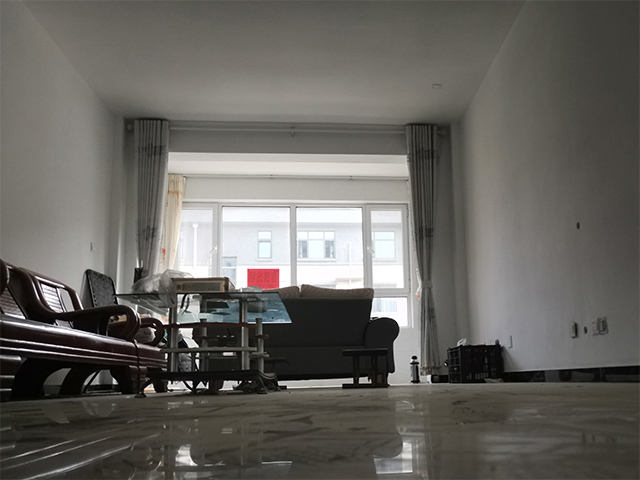curtain: (403, 123, 444, 378), (130, 113, 167, 295)
sofa: (195, 282, 402, 391)
stool: (1, 257, 168, 402), (340, 346, 392, 390)
table: (111, 290, 294, 398)
